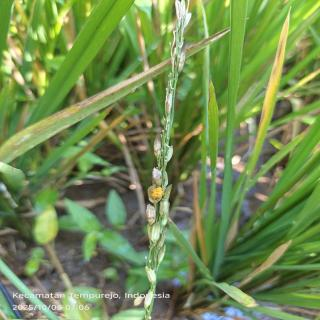Gosong-Palsu: (152, 187, 166, 200)
